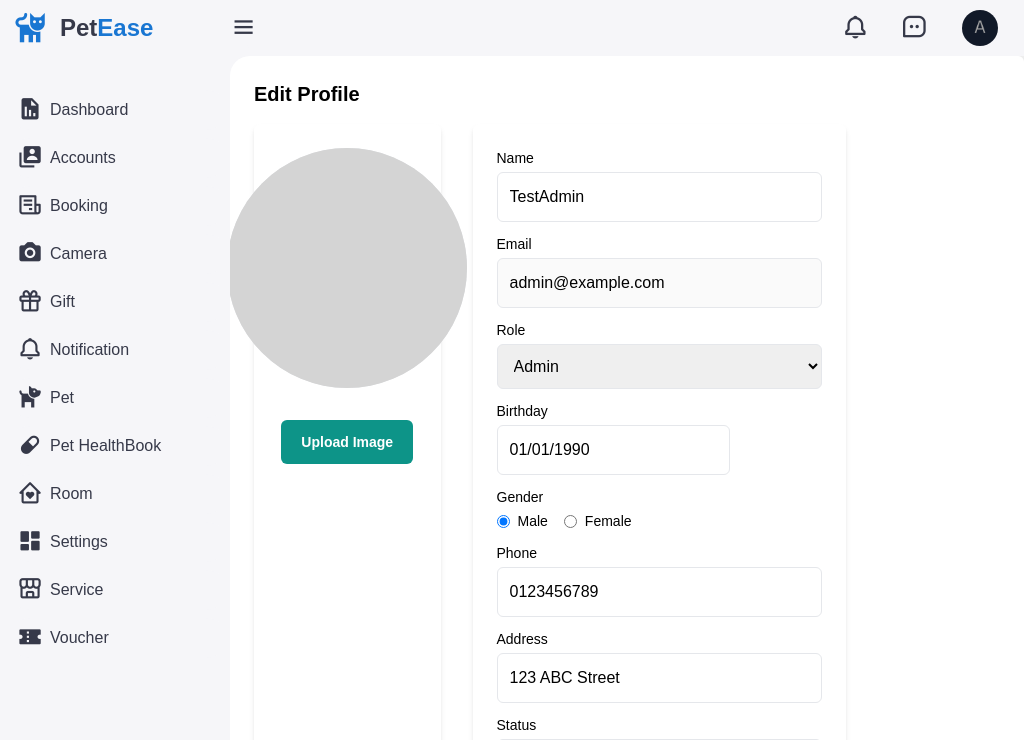
Test: Edit Profile Page › should show error when API returns an error during update
Step 1. Replace the text in the field with id "name" with "Updated Admin" → (660, 197), box [497,172,822,222]
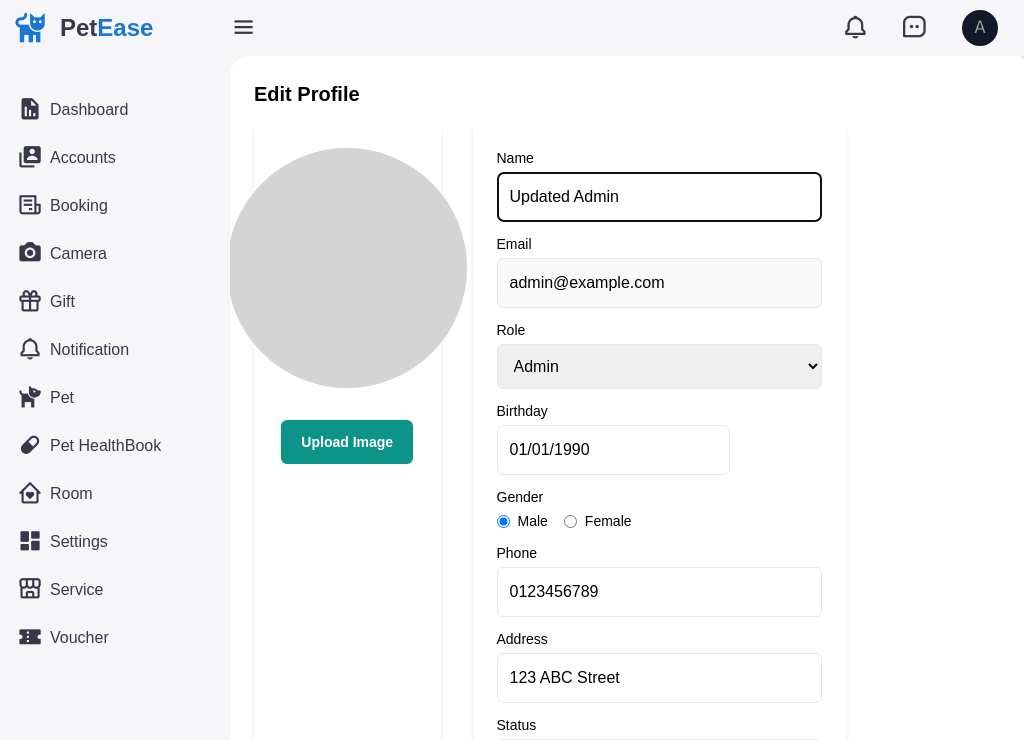
Step 2. Replace the text in the field labelled "Phone" with "0987654321" → (660, 592), box [497,567,822,617]
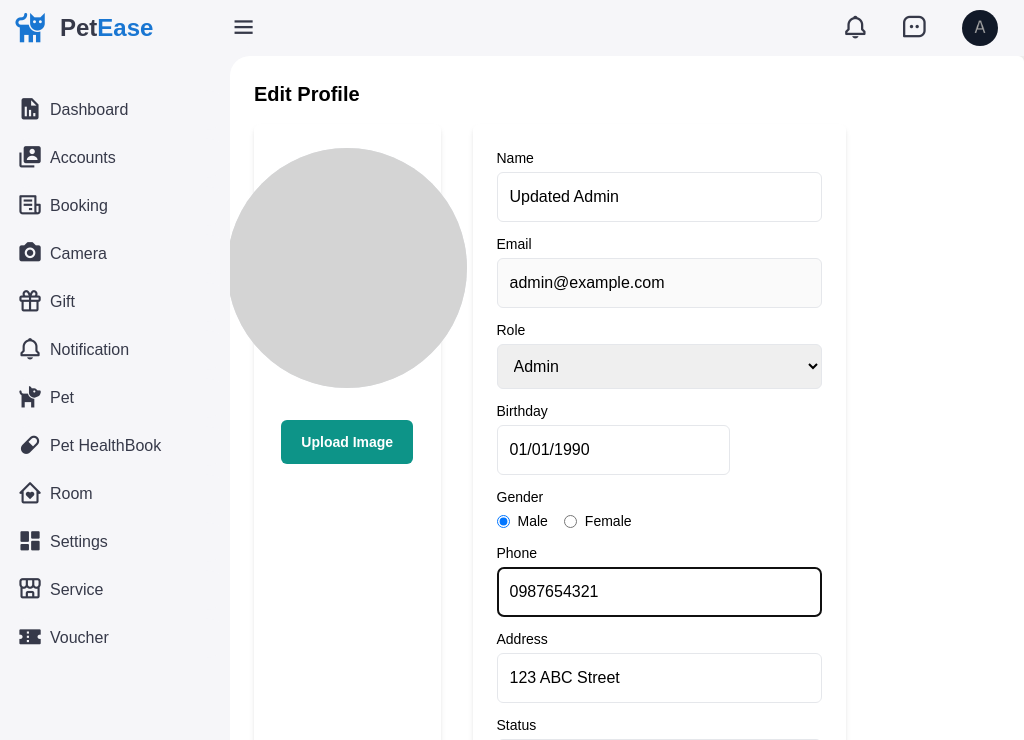
Step 3. Replace the text in the field with id "address" with "456 XYZ Avenue" → (660, 678), box [497,653,822,703]
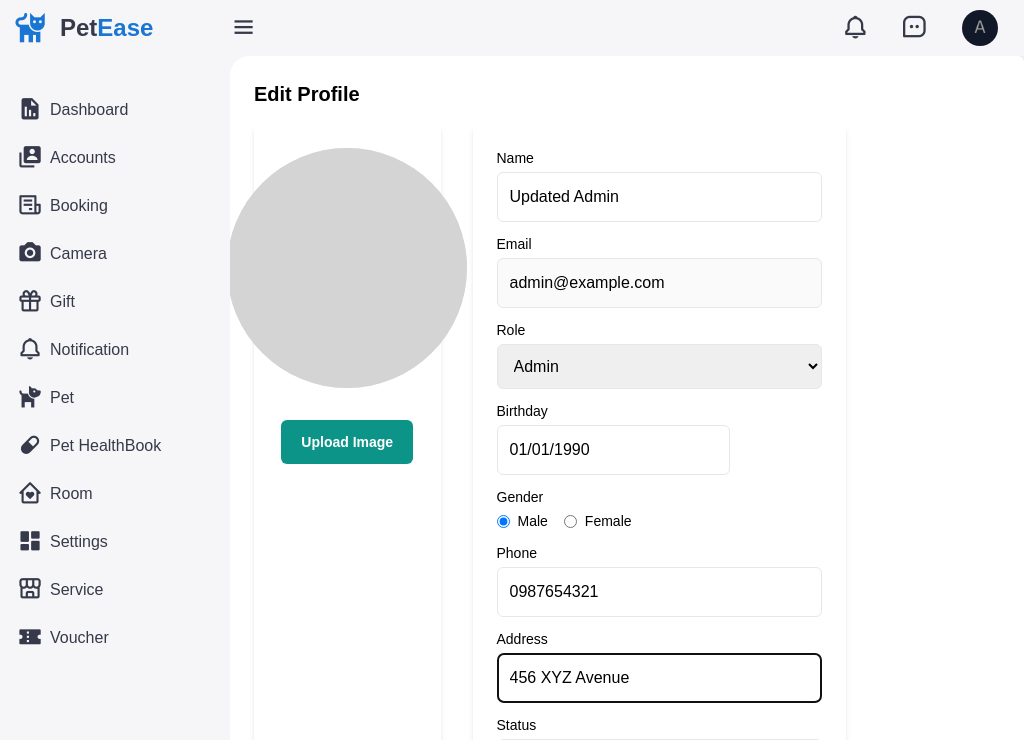
Step 4. Scroll
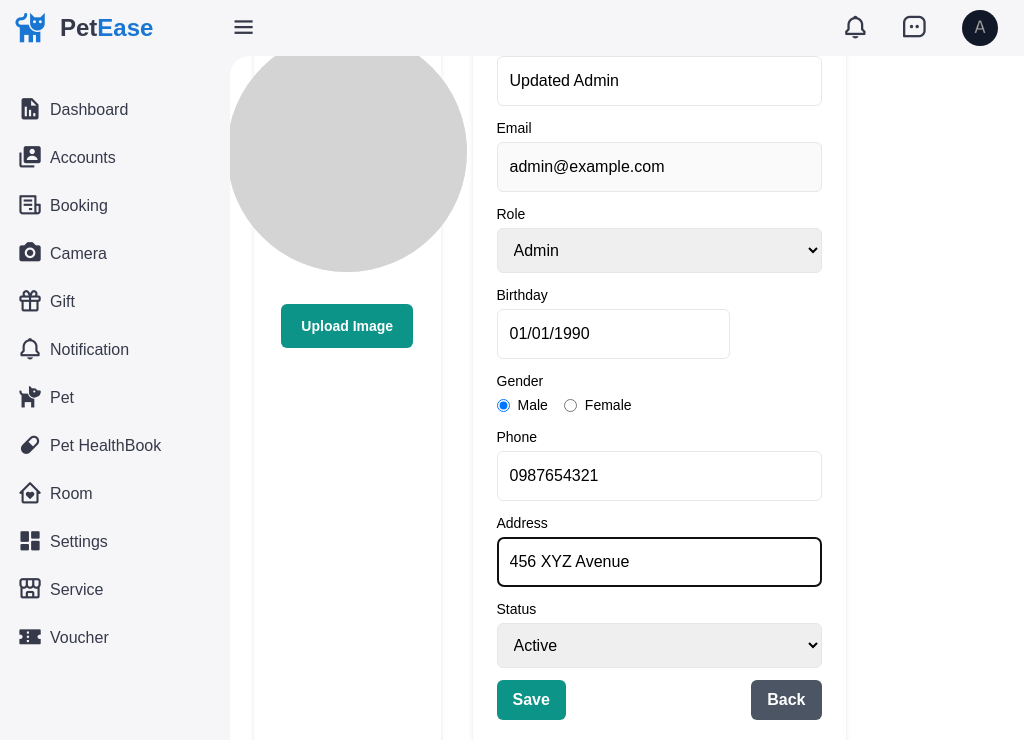
Step 5. Select "Banned" in the dropdown with id "isDelete" → (660, 646), box [497,623,822,668]
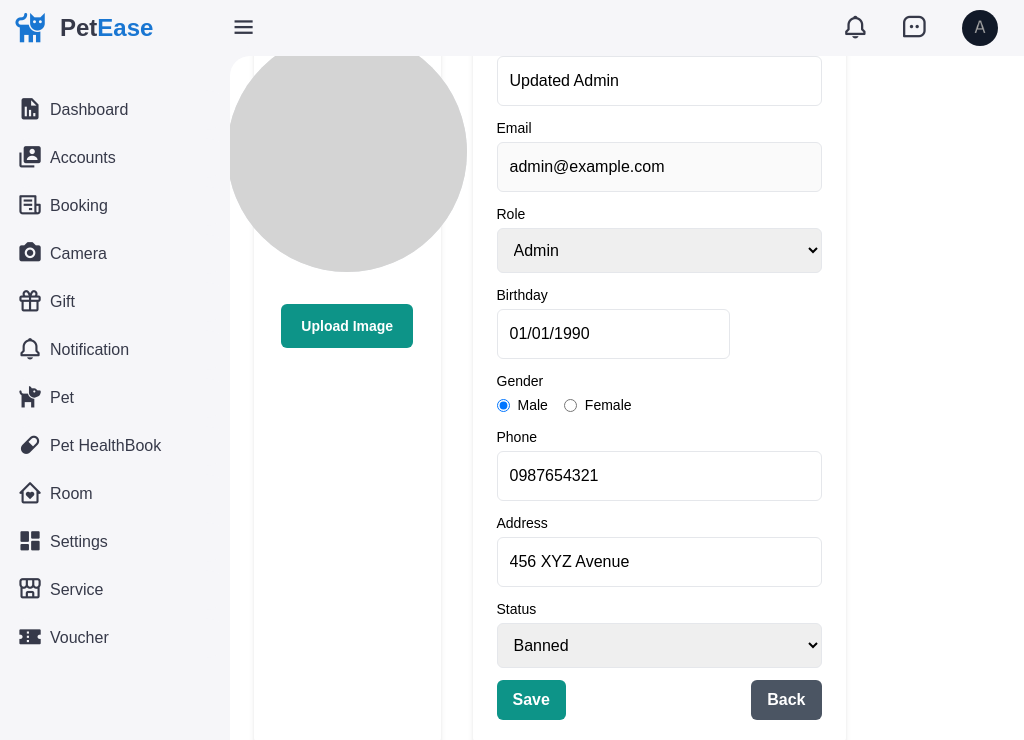
Step 6. Click the button "Save" → (532, 700), box [497,680,566,720]
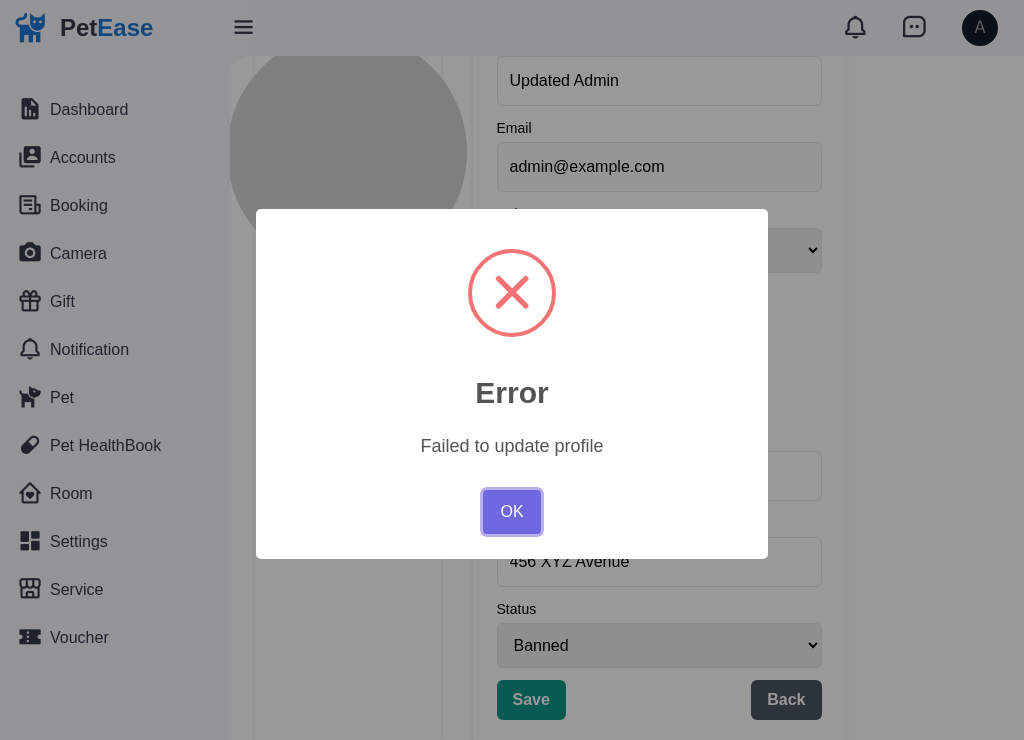
expect the text "Failed to update profile" is shown: met, box [420,436,604,456]
